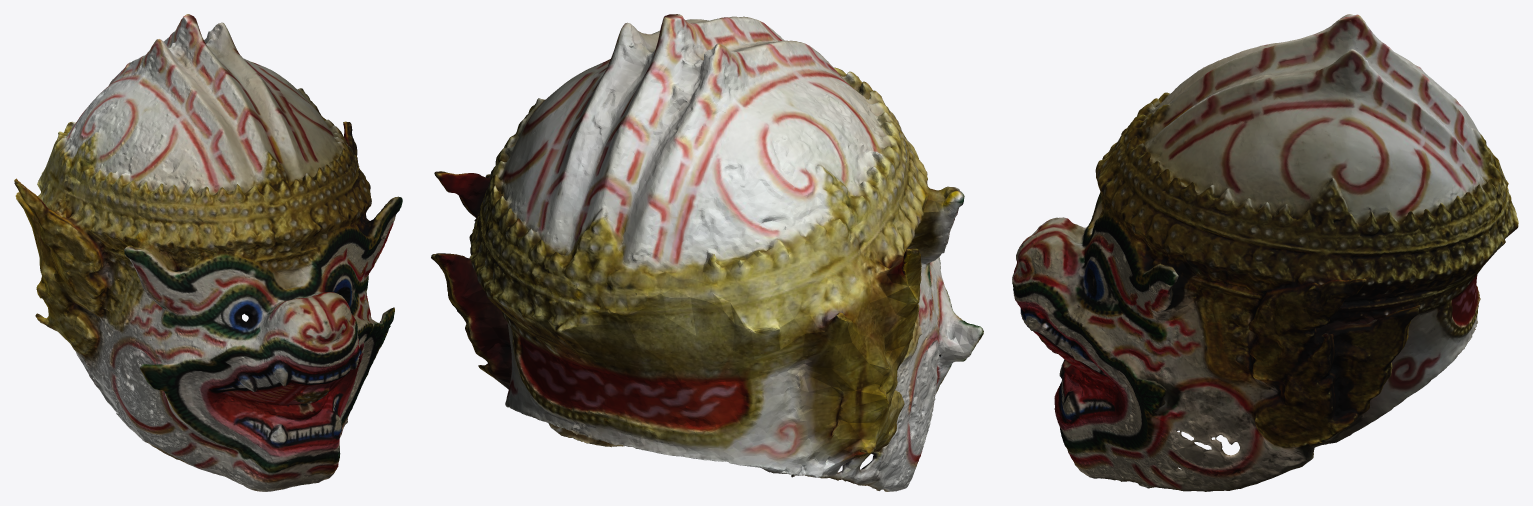
Rendered from Khon1.glb.
The picture shows the model from 3 angles, left to right: view 1: azimuth 30°, elevation 25°; view 2: azimuth 150°, elevation 25°; view 3: azimuth 270°, elevation 25°; orthographic projection. The views are drawn at different scales.
Visible parts, largest first — view 1: 01; view 2: 01; view 3: 01.
Boxes of the visible parts, box(x1,y1,x2,y2) form: 01: box(14, 14, 402, 491); 01: box(431, 14, 983, 491); 01: box(1012, 14, 1518, 491).
Bounding box in the file's own units: 2.88 × 3.12 × 3.21.
Materials: 1 (1 with a texture image).
